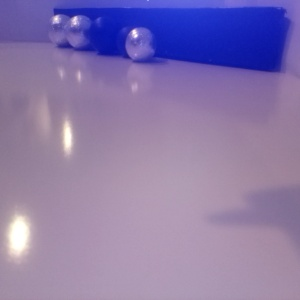alive_ball: (1, 62, 34, 132)
